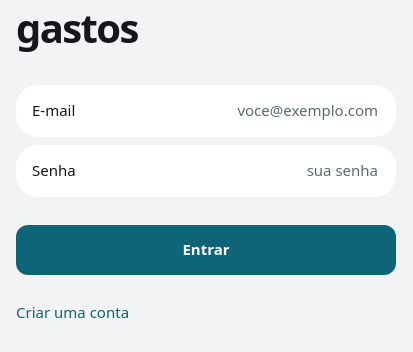
Test case: Login: fields for browsers and password managers › the button is off while the request is on its way
Expected: the button "Criar uma conta" is shown, [16,291,129,335]
Type "ana@example.com" into the field labelled "E-mail" at coordinates (234, 111), box [87,99,380,123]
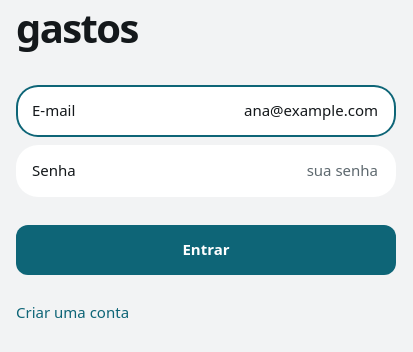
Type "senha-segura" into the password field labelled "Senha" at coordinates (234, 171), box [88,159,380,183]
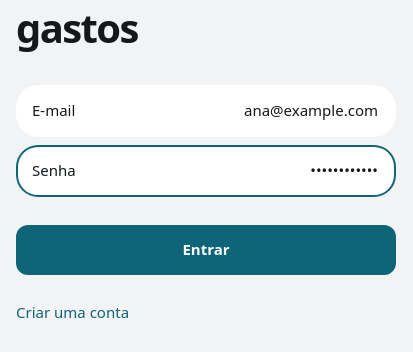
Click the button "Entrar" at coordinates (206, 250), box [16,225,396,275]
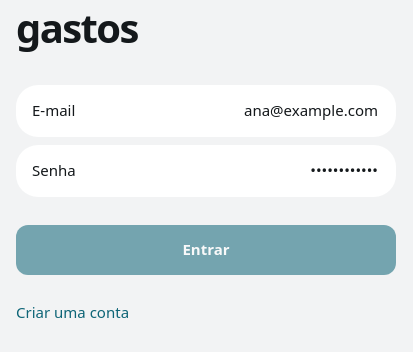
Now the button "Entrar" is disabled, box [16,225,396,275]
